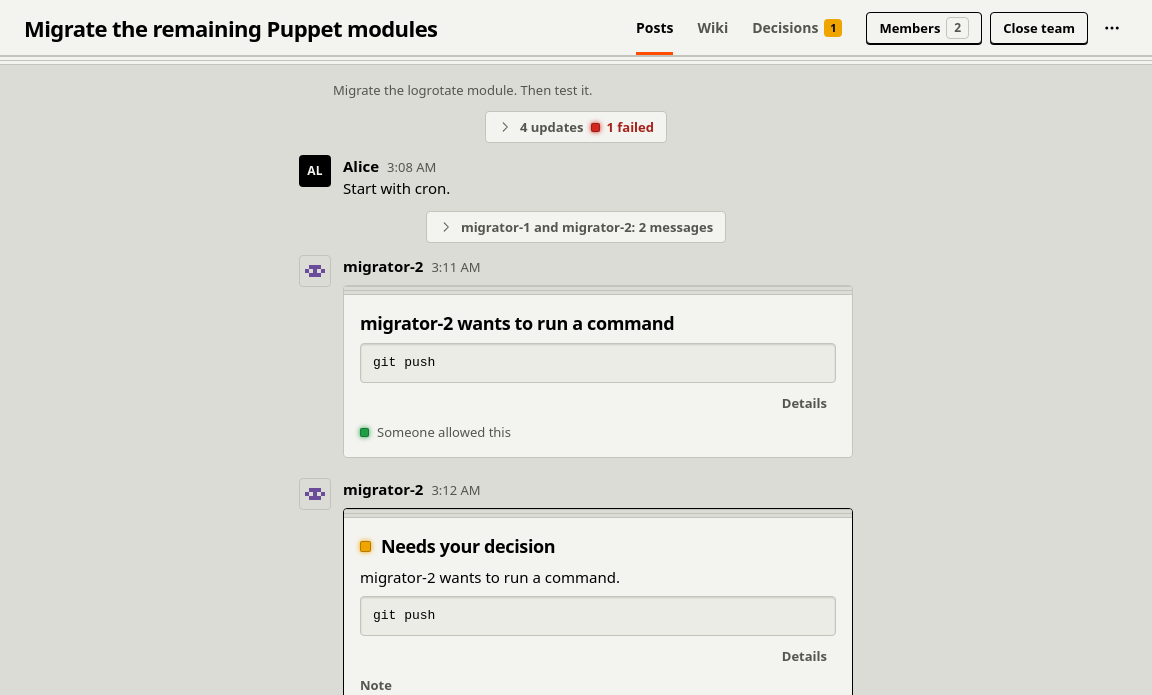
Test: the channel › folds the system lines and the agent chatter, and opens a fold in place
Expected: the element with class "status" reads "1 failed", x1=606 y1=118 x2=654 y2=136
Step 1. Click the button with class "fold-key" showing "4 updates 1 failed" → [576, 127], box x1=485 y1=111 x2=667 y2=143
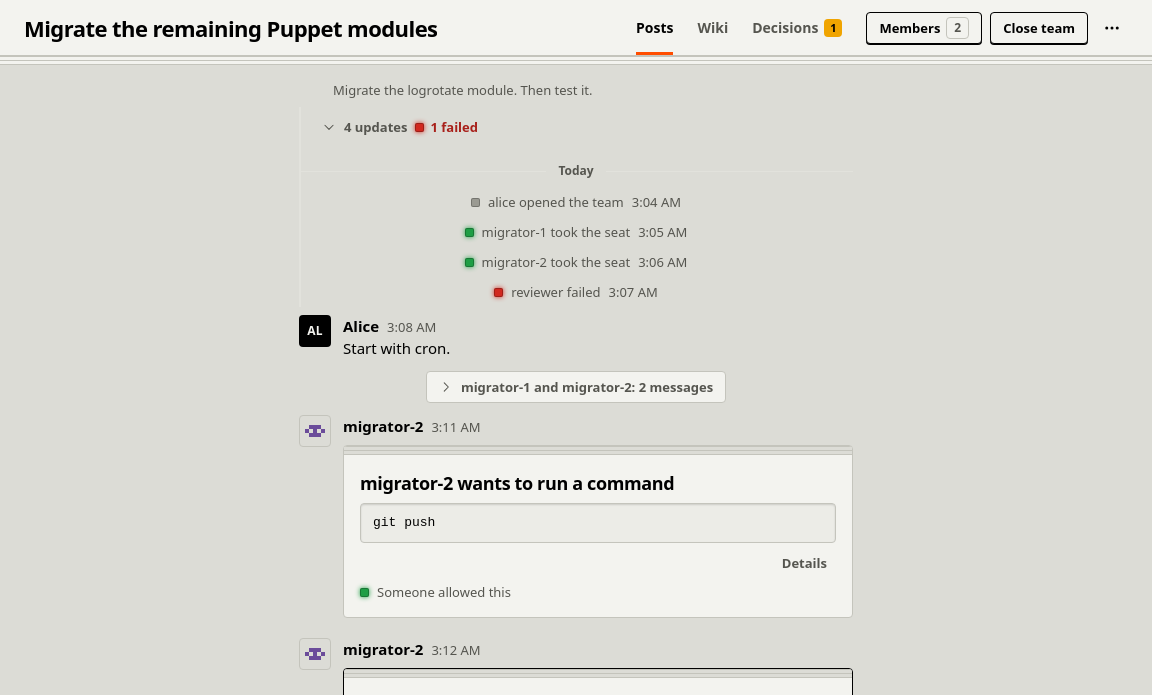
Now the button with class "fold-key" is expanded, box x1=309 y1=111 x2=491 y2=143
Now the element with id "entry-b-chan-2" is shown, box x1=465 y1=223 x2=688 y2=241
Now the element with class "led-red" next to "reviewer failed" is shown, box x1=494 y1=288 x2=503 y2=297
